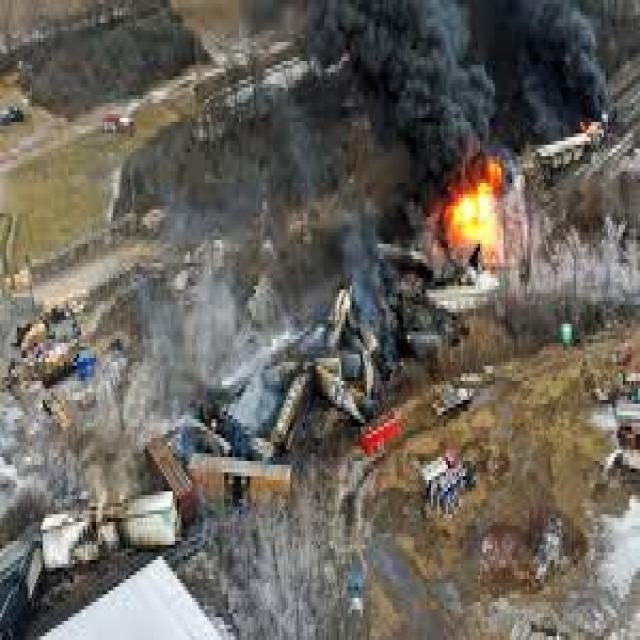fire: (448, 160, 506, 267)
smoke: (316, 8, 490, 160), (512, 8, 608, 137), (335, 214, 388, 332)
